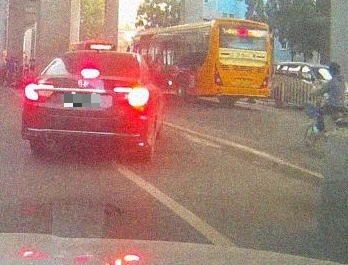L_light: (24, 83, 55, 100), (214, 64, 223, 86)
R_light: (112, 87, 149, 108), (261, 68, 269, 89)
T_light: (80, 69, 100, 79), (239, 45, 255, 49)
day-no: (211, 18, 271, 105)
day-right: (21, 50, 151, 161)
plate_1: (64, 94, 100, 107)
